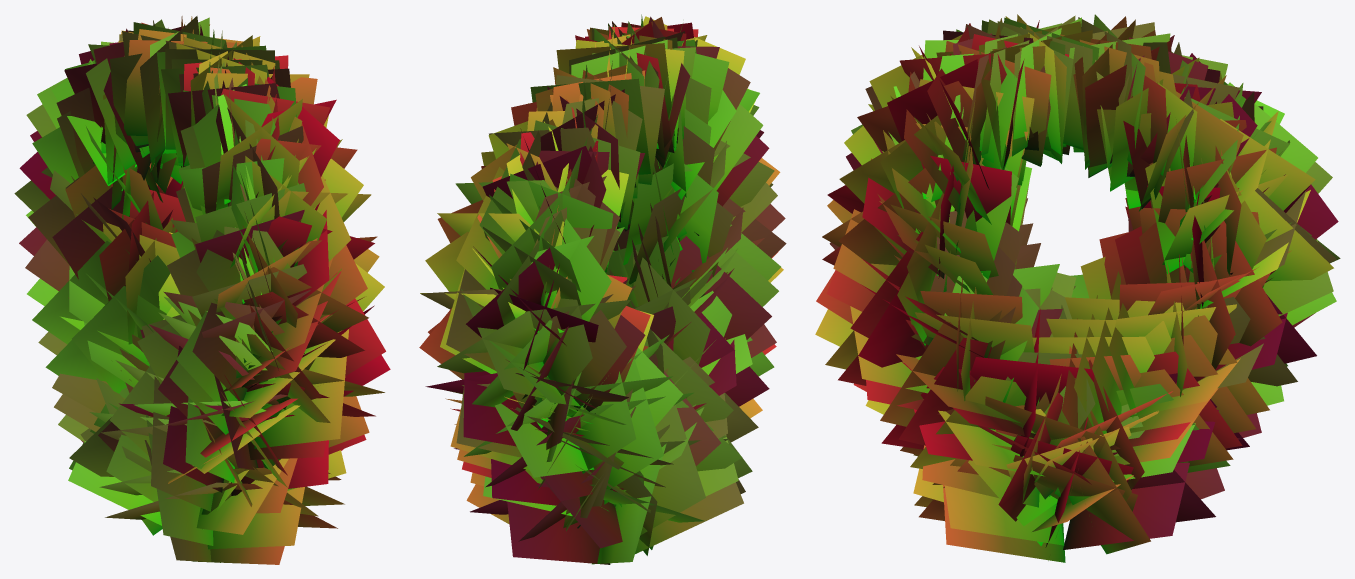
File: URP_P4_Tree_14_LOD_2.fbx
The picture shows the model from 3 angles, left to right: view 1: azimuth 30°, elevation 25°; view 2: azimuth 150°, elevation 25°; view 3: azimuth 270°, elevation 25°; orthographic projection. The views are drawn at different scales.
Visible parts, largest first — view 1: Tree_14_LOD_2; view 2: Tree_14_LOD_2; view 3: Tree_14_LOD_2.
Boxes of the visible parts, x1,y1,x2,y2 form: Tree_14_LOD_2: (14,16,390,564); Tree_14_LOD_2: (419,14,786,564); Tree_14_LOD_2: (815,14,1340,562).
Size of the model in its own units: 215 by 436 by 397.
